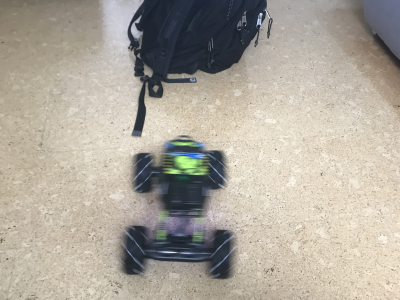remote control car: (119, 133, 234, 282)
